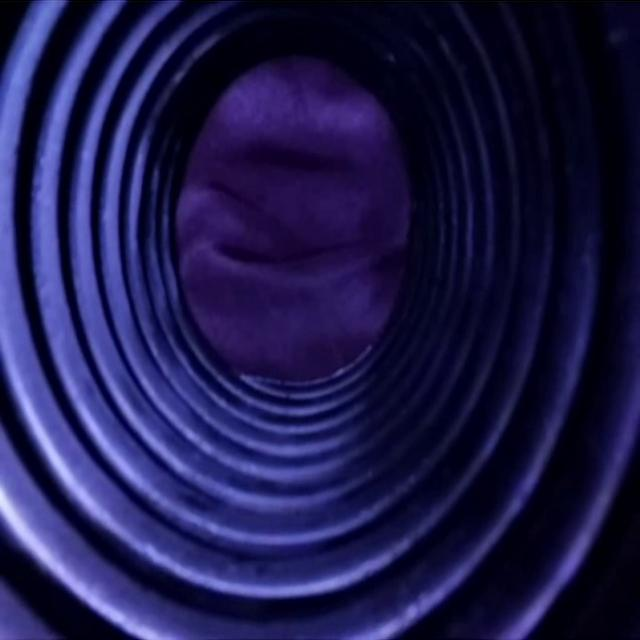block: (176, 54, 410, 377)
